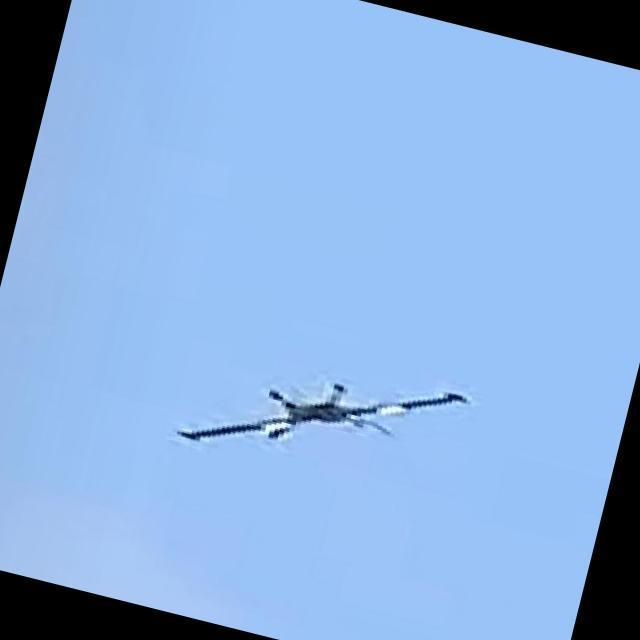iha: (173, 272, 492, 529)
